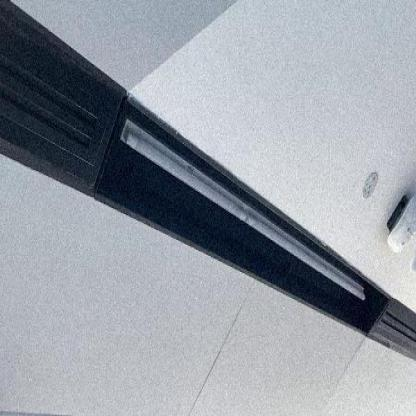light_off: (111, 109, 374, 312)
